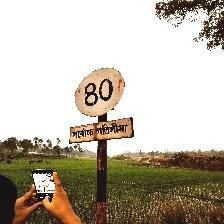Speed-limit: (70, 69, 132, 144)
